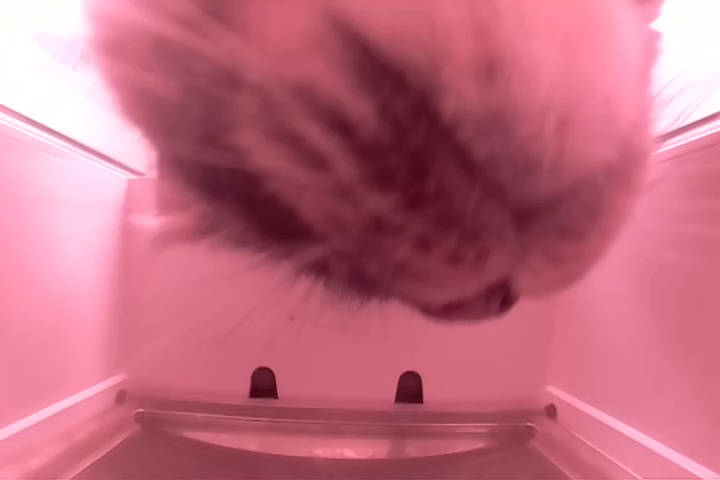Snout: (382, 73, 626, 326)
